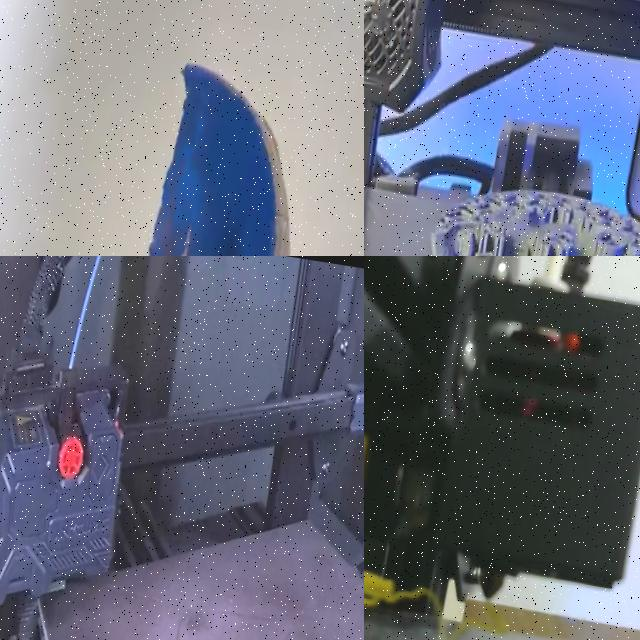spaghetti: (364, 572, 442, 625), (454, 602, 510, 637)
